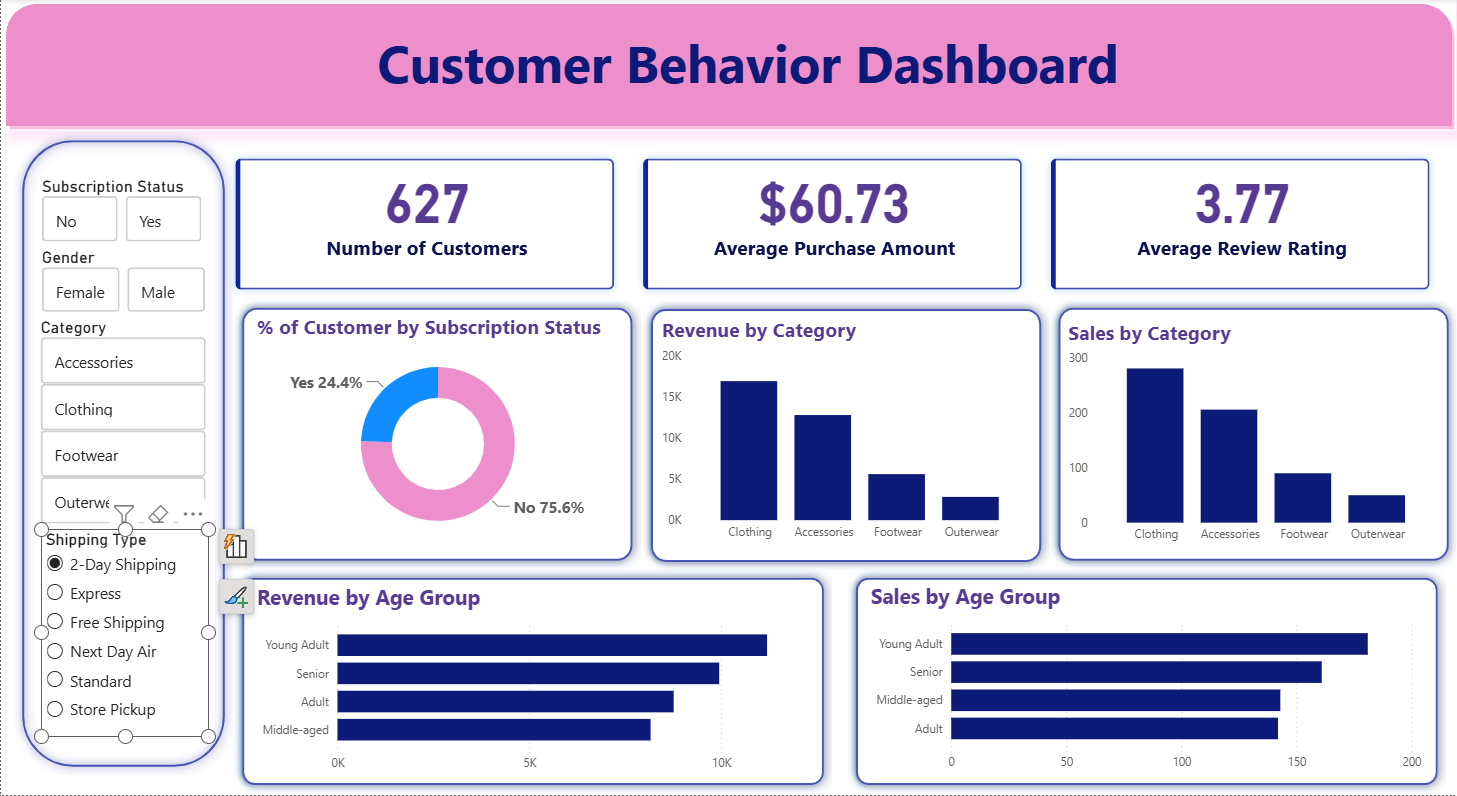

The page's visual inventory and layout, read from the dashboard file:
{"tool":"powerbi","page":{"name":"Page 1","canvas":[1500,820],"ordinal":0},"visuals":[{"type":"cardVisual","fields":{"Data":["customer_behavior customer.Number of Customers","customer_behavior customer.Average Purchase Amount","customer_behavior customer.Average Review Rating"]},"box":[213.3,136.7,1286.7,191.7],"z":0},{"type":"shape","box":[240,587.1,617.1,231.4],"z":1000},{"type":"shape","box":[0,0,1500,136],"z":2000},{"type":"clusteredBarChart","title":"Revenue by Age Group","fields":{"Y":["Sum(customer_behavior customer.purchase_amount)"],"Category":["customer_behavior customer.age_group"]},"box":[258.6,601.4,577.1,204.3],"z":3000},{"type":"textbox","box":[38,24,1462,100],"z":4000},{"type":"shape","box":[1080,308.6,420,278.6],"z":5000},{"type":"shape","box":[660,310,420,278.6],"z":6000},{"type":"clusteredColumnChart","title":"Revenue by Category","fields":{"Category":["customer_behavior customer.category"],"Y":["Sum(customer_behavior customer.purchase_amount)"]},"box":[675.7,327.1,390,240],"z":7000},{"type":"shape","box":[240,308.6,420,278.6],"z":8000},{"type":"clusteredColumnChart","title":"Sales by Category","fields":{"Category":["customer_behavior customer.category"],"Y":["CountNonNull(customer_behavior customer.customer_id)"]},"box":[1094.3,330,390,240],"z":9000},{"type":"shape","box":[13.3,136.7,226.7,663.3],"z":10000},{"type":"advancedSlicerVisual","title":"Gender","fields":{"Values":["customer_behavior customer.gender"]},"box":[37.9,255.6,179.8,71.6],"z":11000},{"type":"advancedSlicerVisual","title":"Subscription Status","fields":{"Values":["customer_behavior customer.subscription_status"]},"box":[37.9,182.6,175.6,73],"z":12000},{"type":"advancedSlicerVisual","title":"Category","fields":{"Values":["customer_behavior customer.category"]},"box":[36.1,328.4,180.3,218.9],"z":13000},{"type":"listSlicer","title":"Shipping Type","fields":{"Values":["customer_behavior customer.shipping_type"]},"box":[41.2,546,172.6,213.8],"z":14000},{"type":"donutChart","title":"% of Customer by Subscription Status","fields":{"Category":["customer_behavior customer.subscription_status"],"Y":["CountNonNull(customer_behavior customer.customer_id)"]},"box":[258.6,322.9,382.9,244.3],"z":15000},{"type":"shape","box":[871.4,587.1,617.1,231.4],"z":16000},{"type":"clusteredBarChart","title":"Sales by Age Group","fields":{"Y":["CountNonNull(customer_behavior customer.customer_id)"],"Category":["customer_behavior customer.age_group"]},"box":[891.4,600,577.1,204.3],"z":17000}]}

Visuals, with their boxes in screenshot pixels (x1, y1, x2, y2), scaled from the page's 1500x820 canvas onto the 1457x796 screenshot:
cardVisual - customer_behavior customer.Number of Customers x customer_behavior customer.Average Purchase Amount: [207, 133, 1456, 319]
shape: [233, 570, 833, 795]
shape: [0, 0, 1456, 132]
"Revenue by Age Group" clusteredBarChart: [251, 584, 812, 782]
textbox: [37, 23, 1456, 120]
shape: [1049, 300, 1456, 570]
shape: [641, 301, 1049, 571]
"Revenue by Category" clusteredColumnChart: [656, 318, 1035, 551]
shape: [233, 300, 641, 570]
"Sales by Category" clusteredColumnChart: [1063, 320, 1442, 553]
shape: [13, 133, 233, 777]
"Gender" advancedSlicerVisual: [37, 248, 211, 318]
"Subscription Status" advancedSlicerVisual: [37, 177, 207, 248]
"Category" advancedSlicerVisual: [35, 319, 210, 531]
"Shipping Type" listSlicer: [40, 530, 208, 738]
"% of Customer by Subscription Status" donutChart: [251, 313, 623, 551]
shape: [846, 570, 1446, 795]
"Sales by Age Group" clusteredBarChart: [866, 582, 1426, 781]
